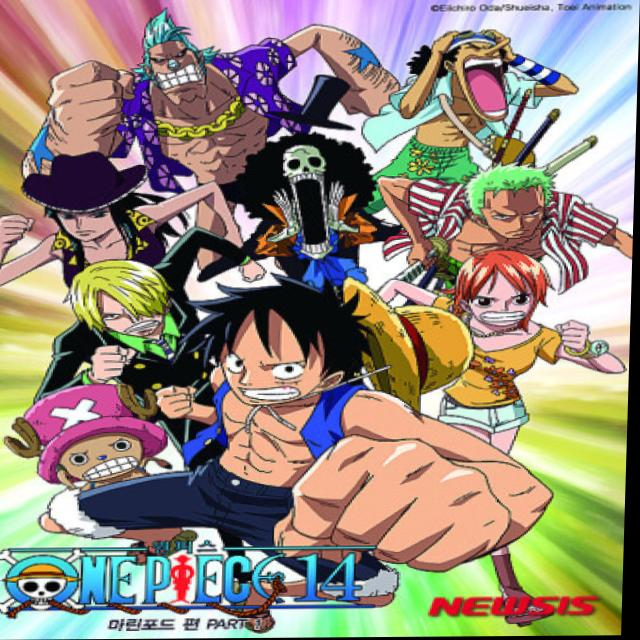Blook: (245, 135, 377, 266)
Chyopa: (23, 379, 187, 501)
Franky: (130, 12, 220, 110)
Luffy: (207, 289, 376, 425)
Nami: (449, 244, 571, 335)
NicoRobin: (22, 148, 142, 252)
Sangdi: (57, 253, 201, 349)
Usopp: (430, 28, 529, 122)
Zoro: (461, 168, 569, 245)
